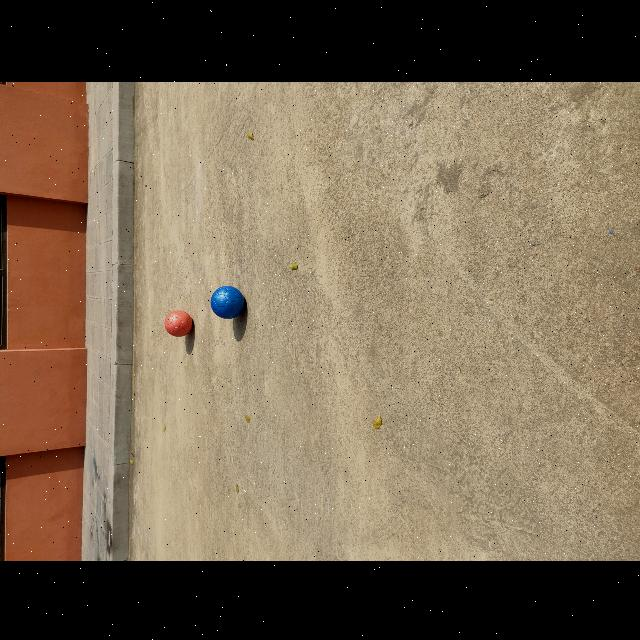B: (211, 284, 245, 317)
R: (164, 308, 193, 335)
